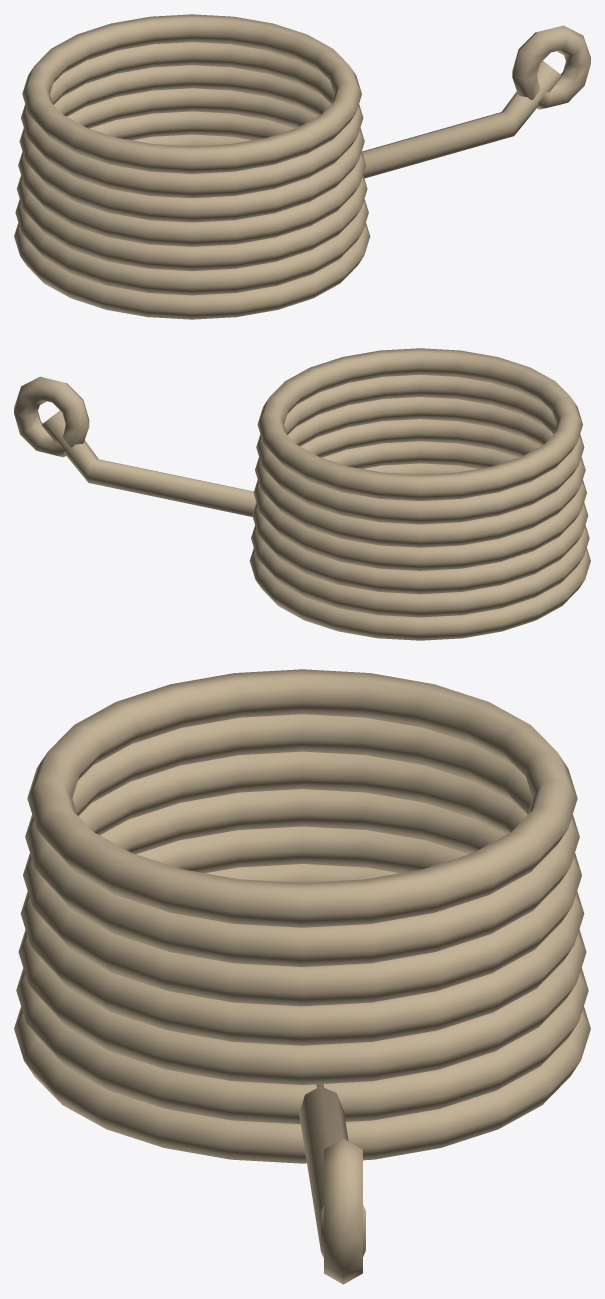
Rendered from painter_fwd.glb.
3 renders of one model, top to bottom at view 1: azimuth 30°, elevation 25°; view 2: azimuth 150°, elevation 25°; view 3: azimuth 270°, elevation 25°, orthographic. The views are drawn at different scales.
Parts seen in each view (by area): view 1: Painter_Fwd; view 2: Painter_Fwd; view 3: Painter_Fwd.
Part boxes in pixels (x1=…): Painter_Fwd: x1=14, y1=14, x2=590, y2=319; Painter_Fwd: x1=14, y1=348, x2=590, y2=640; Painter_Fwd: x1=14, y1=669, x2=590, y2=1284.
Size of the model in its own units: 0.517 by 0.1433 by 0.282.
